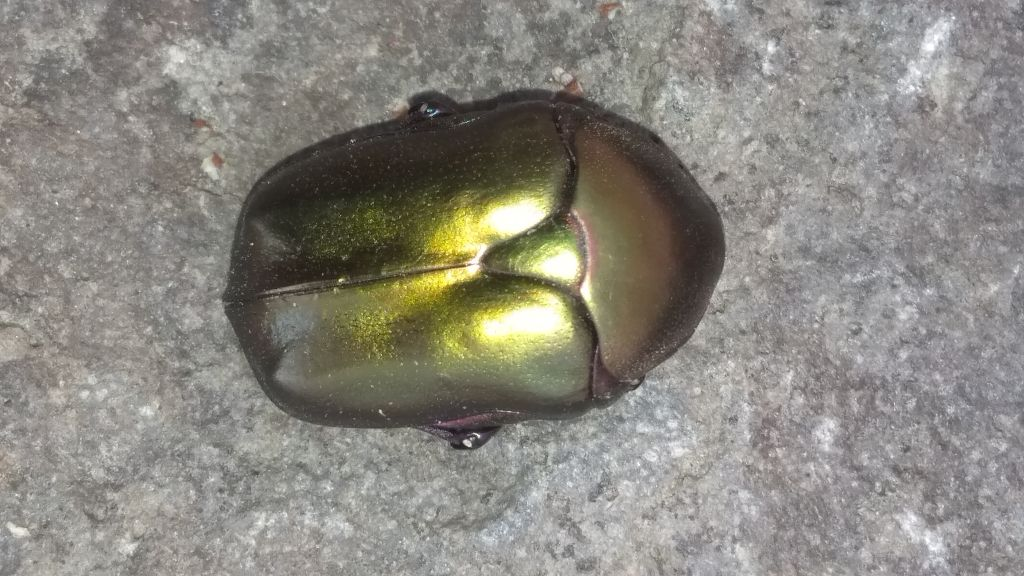Protaetia_fieberi: (220, 80, 730, 456)
